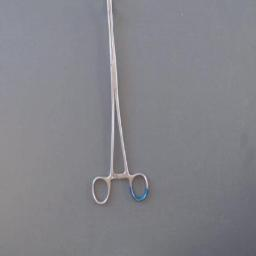Sponge Forceps: (89, 2, 153, 210)
